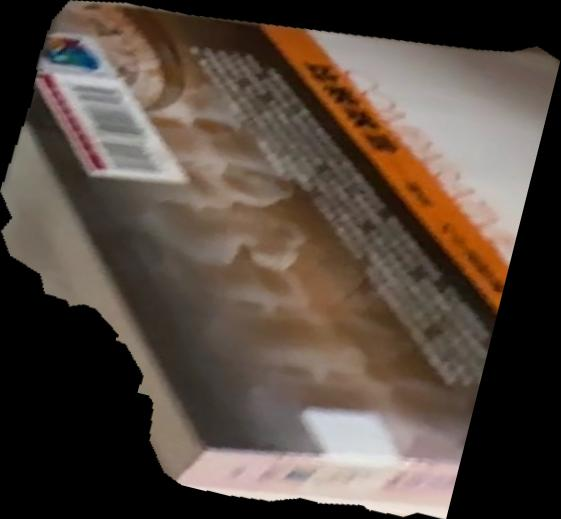flat: (1, 1, 561, 519)
